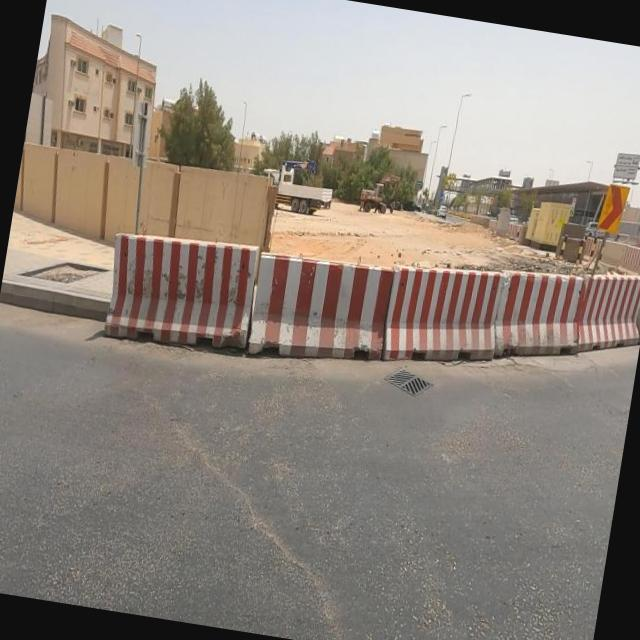debris: (566, 155, 640, 260)
